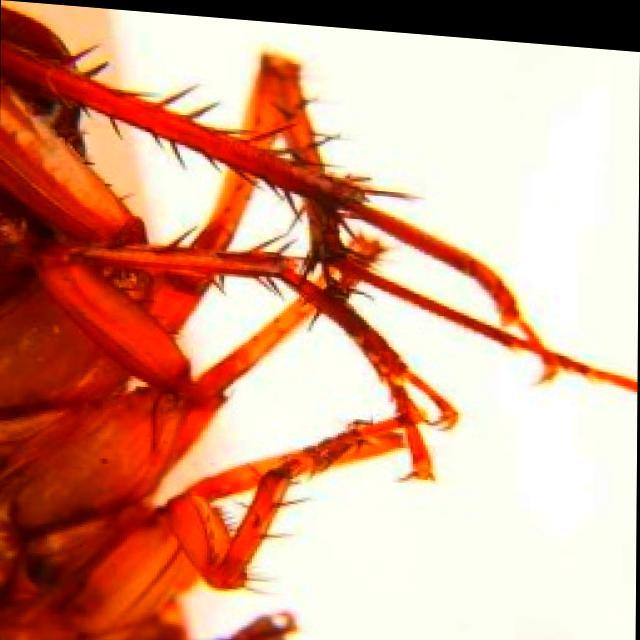cockroach: (2, 7, 634, 636)
